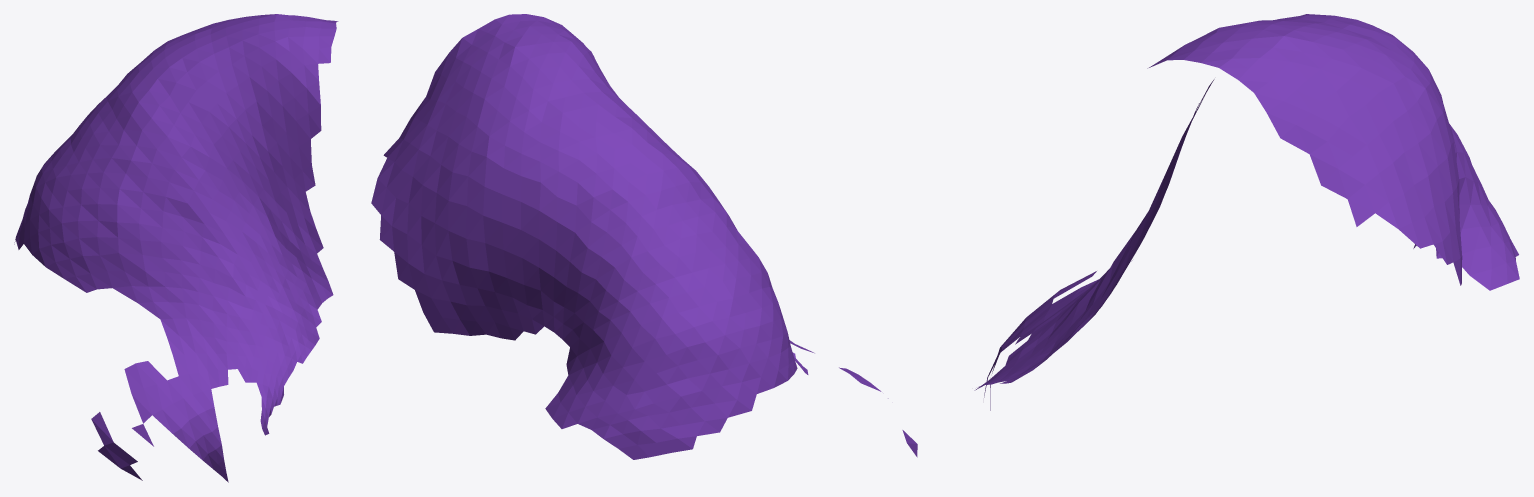
The model's file is rh_temporalpole.glb.
3 views of the same model, side by side, from view 1: azimuth 30°, elevation 25°; view 2: azimuth 150°, elevation 25°; view 3: azimuth 270°, elevation 25° (orthographic). The views are drawn at different scales.
Visible parts, largest first — view 1: world; view 2: world; view 3: world.
Part boxes in pixels (x1,y1,x2,y2): world: [14, 14, 338, 482]; world: [371, 14, 917, 459]; world: [974, 14, 1519, 410].
Size of the model in its own units: 23.54 by 25.06 by 23.6.
